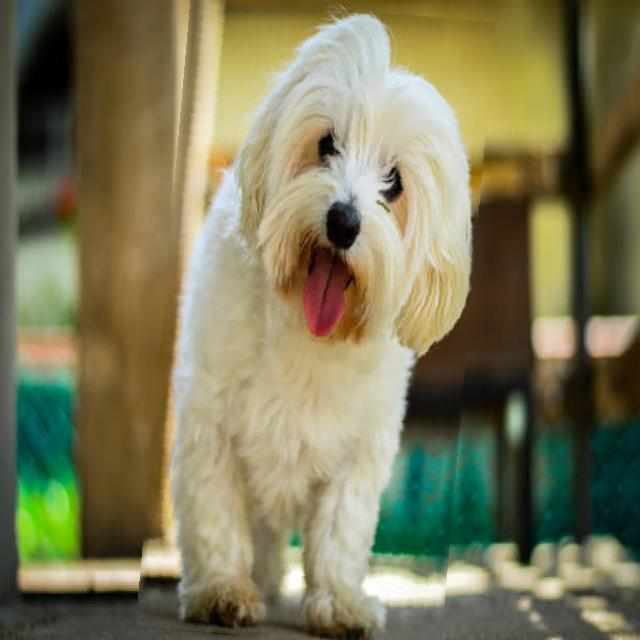maltese: (149, 2, 482, 640)
